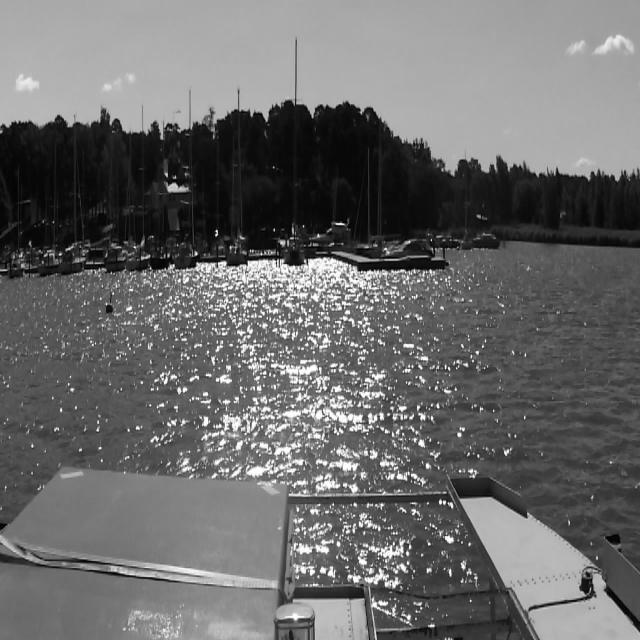ship: (281, 37, 307, 266), (174, 91, 200, 265), (225, 88, 249, 266), (64, 111, 86, 270), (131, 105, 149, 269), (384, 234, 434, 258), (309, 222, 353, 246), (463, 155, 471, 249), (475, 232, 499, 248)
